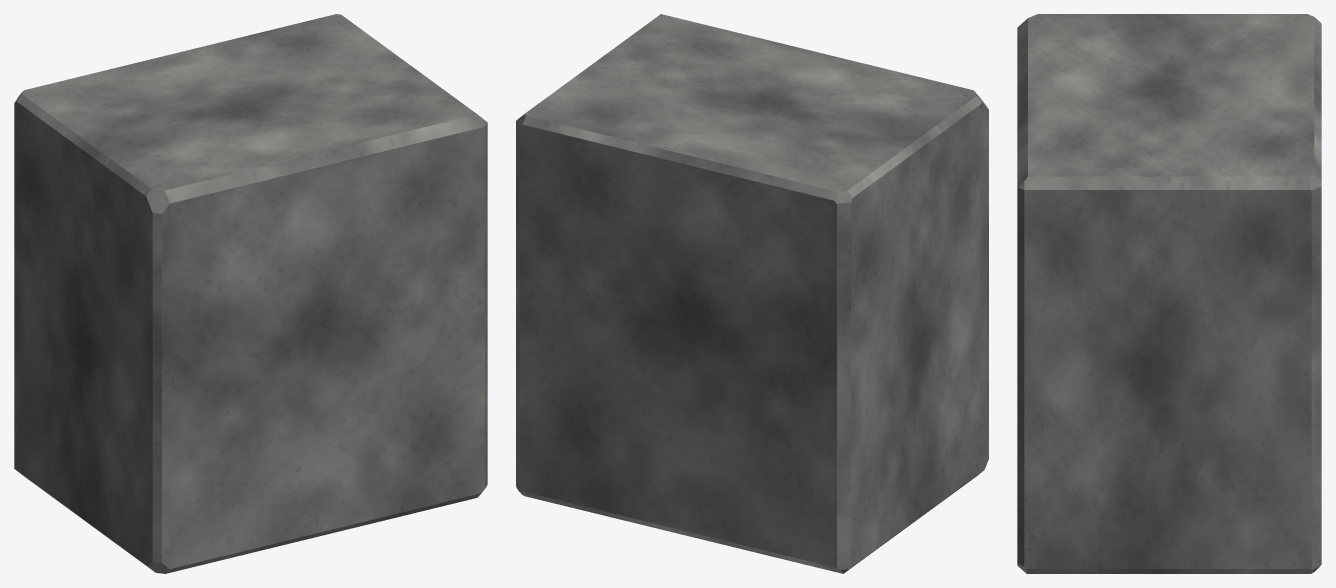
Rendered from limestone-block-05.glb.
3 views of the same model, side by side, from view 1: azimuth 30°, elevation 25°; view 2: azimuth 150°, elevation 25°; view 3: azimuth 270°, elevation 25° (orthographic). The views are drawn at different scales.
Visible parts, largest first — view 1: limestone-block-05; view 2: limestone-block-05; view 3: limestone-block-05.
Boxes of the visible parts, <box> form: limestone-block-05: <box>14,14,487,573</box>; limestone-block-05: <box>516,14,988,573</box>; limestone-block-05: <box>1017,14,1321,573</box>.
Size of the model in its own units: 0.28 by 0.3058 by 0.2123.
Materials: 1 (1 with a texture image).
